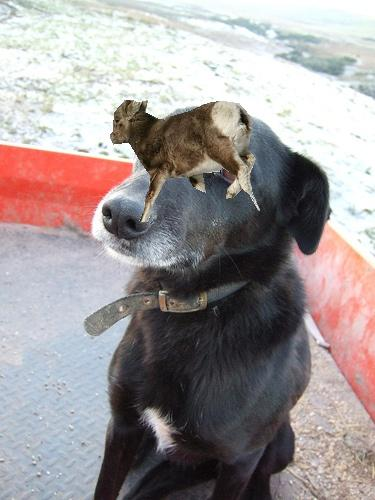tampered: (111, 101, 260, 222)
